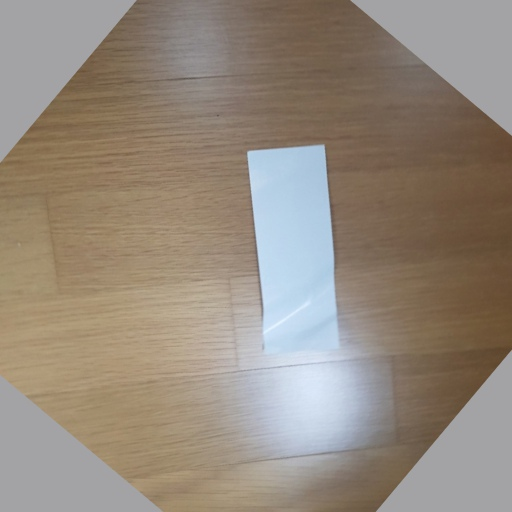Paper_2: (241, 129, 370, 391)
